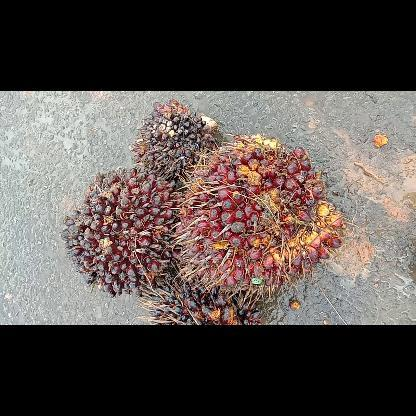Kurang masak: (61, 168, 176, 296)
TBS abnormal: (132, 100, 220, 184), (146, 278, 260, 324)
TBS masak: (176, 133, 340, 294)
